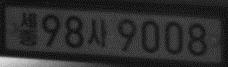0: (163, 21, 184, 55), (140, 19, 160, 54)
8: (187, 22, 208, 57), (64, 14, 84, 49)
9: (41, 12, 62, 47), (116, 18, 137, 51)
사: (87, 18, 107, 47)
세종_V: (18, 11, 38, 47)
